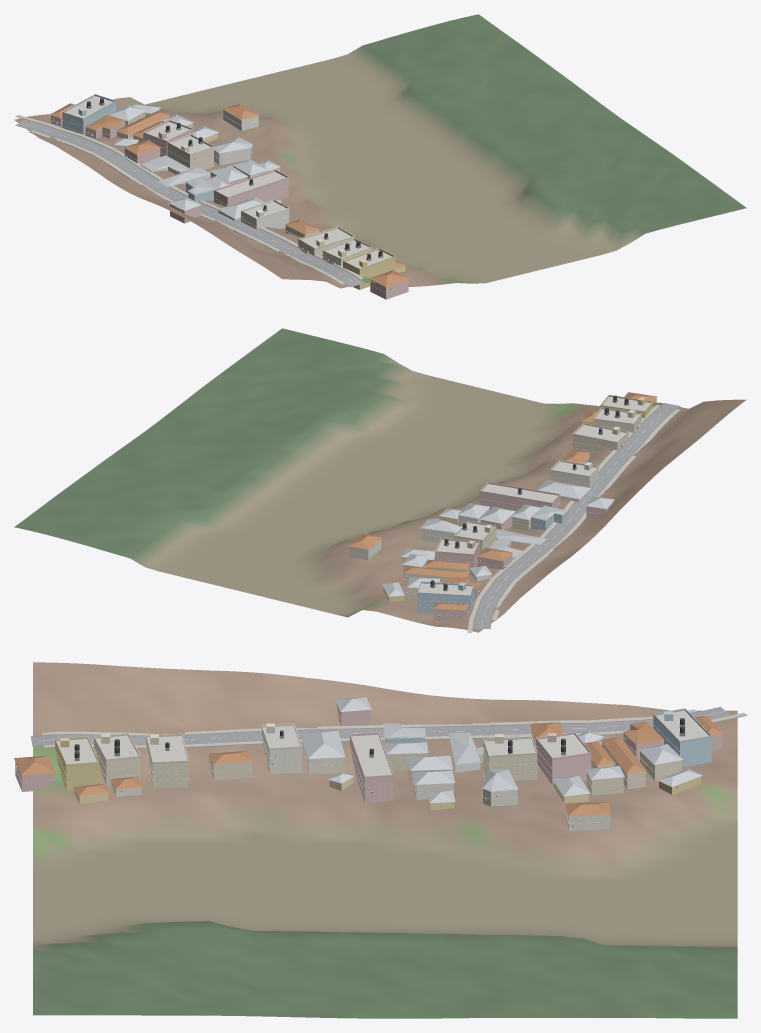
The picture shows the model from 3 angles, top to bottom: view 1: azimuth 30°, elevation 25°; view 2: azimuth 150°, elevation 25°; view 3: azimuth 270°, elevation 25°; orthographic projection. The views are drawn at different scales.
Parts seen in each view (by area): view 1: Terrain-col, Buildings-col, Details, Roads-col, Sidewalks-col; view 2: Terrain-col, Buildings-col, Roads-col, Details, Sidewalks-col; view 3: Terrain-col, Buildings-col, Details, Roads-col, Sidewalks-col.
Boxes of the visible parts, bbox=[...] form: Terrain-col: bbox=[14, 14, 746, 288]; Buildings-col: bbox=[50, 96, 409, 299]; Details: bbox=[51, 94, 408, 292]; Roads-col: bbox=[15, 119, 364, 287]; Sidewalks-col: bbox=[16, 115, 363, 284]; Terrain-col: bbox=[14, 328, 746, 632]; Buildings-col: bbox=[348, 392, 657, 620]; Roads-col: bbox=[472, 403, 680, 628]; Details: bbox=[349, 395, 652, 616]; Sidewalks-col: bbox=[467, 405, 680, 632]; Terrain-col: bbox=[33, 662, 737, 1018]; Buildings-col: bbox=[14, 697, 723, 831]; Details: bbox=[15, 708, 722, 826]; Roads-col: bbox=[30, 707, 730, 746]; Sidewalks-col: bbox=[42, 709, 746, 748].
Bounding box in the file's own units: 259 × 28.2 × 266.
